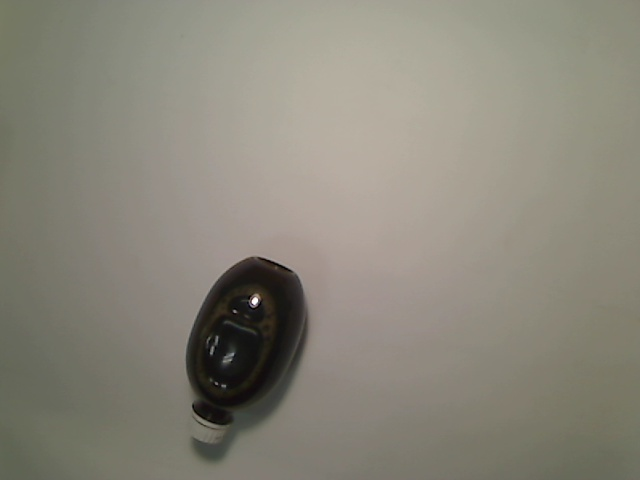plast_bottle: (183, 253, 311, 448)
